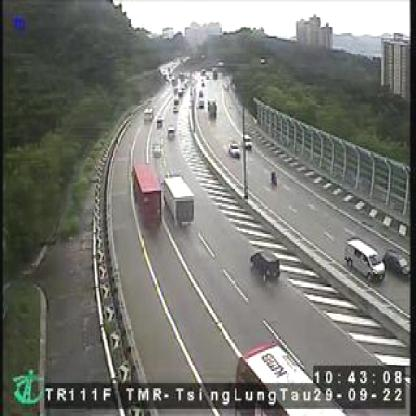Bus: (224, 348, 351, 414)
Car: (342, 236, 385, 288), (382, 244, 411, 281), (246, 249, 277, 282), (226, 140, 242, 162), (239, 132, 254, 149), (148, 139, 161, 156), (207, 97, 217, 113), (164, 126, 175, 138), (142, 107, 152, 119), (154, 116, 164, 127), (194, 95, 204, 104)
Truck: (127, 163, 162, 227), (159, 172, 195, 228)
